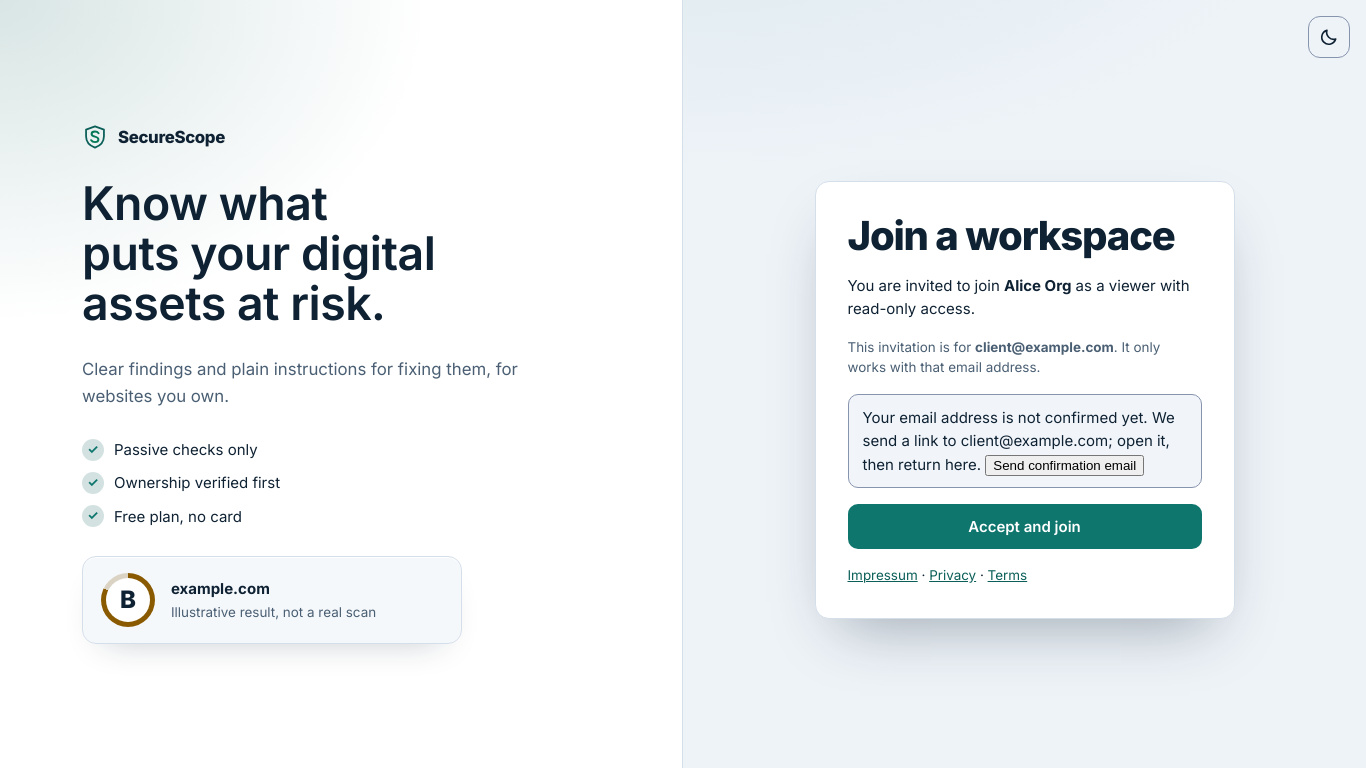
Test: invitation links › offers to send the confirmation email when the invited address is not confirmed yet
Click the button "Send confirmation email": (1065, 465) [985,455,1144,476]
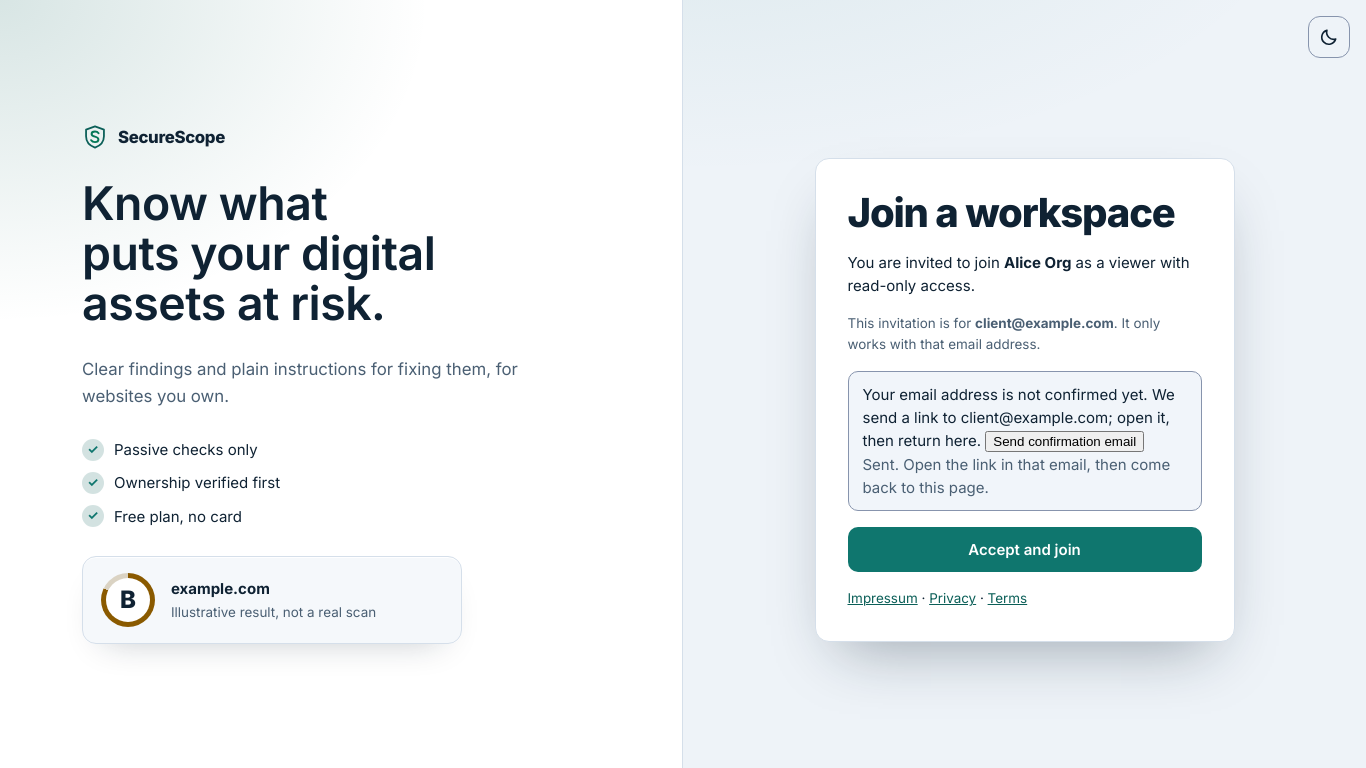
Check: the text "Sent. Open the link" is shown, box [862,455,1170,497]
